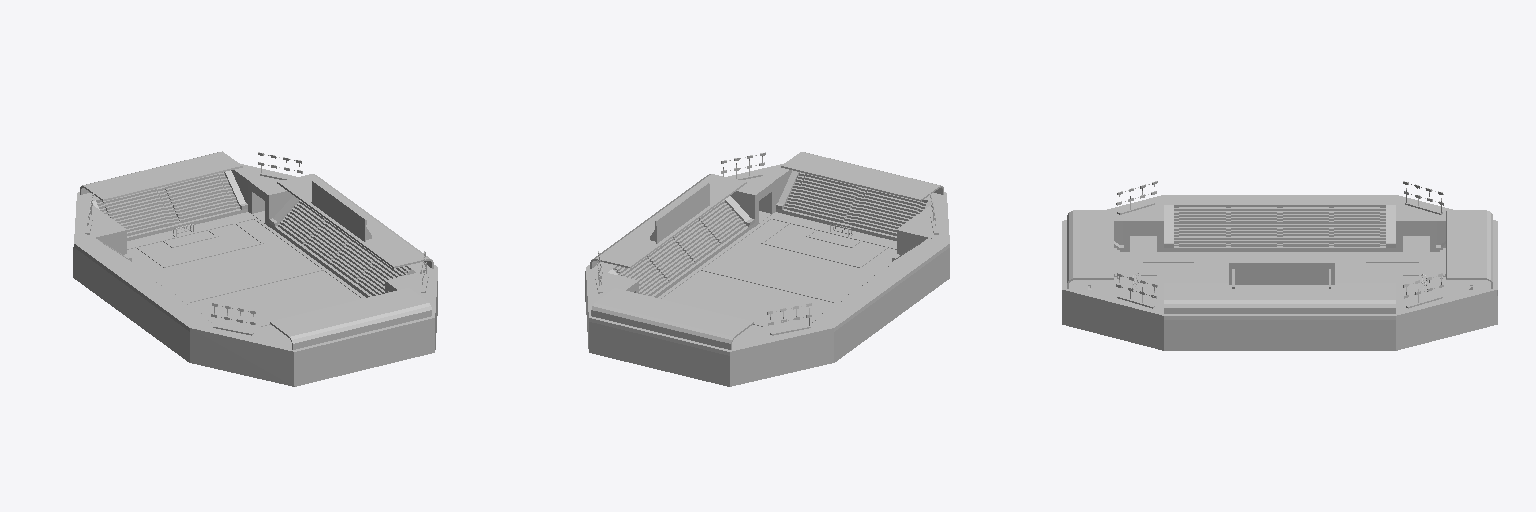
File: Stadium.obj
3 views of the same model, side by side, from view 1: azimuth 30°, elevation 25°; view 2: azimuth 150°, elevation 25°; view 3: azimuth 270°, elevation 25° (orthographic).
Parts seen in each view (by area): view 1: Box001, Box010, Box008, Box015, Box011, Box012, Box014, Line008, Line007, Box006, Box009, Box016 (+9 smaller); view 2: Box001, Box010, Box003, Box014, Box009, Box012, Box015, Line021, Line022, Box007, Box011, Box016 (+9 smaller); view 3: Box005, Box001, Box012, Box010, Box006, Box007, Box015, Box014, Box016, Box011, Box009, Line023 (+7 smaller).
Boxes of the visible parts, <box> form: Box001: <box>127,212,365,342</box>; Box010: <box>73,238,211,362</box>; Box008: <box>283,316,434,386</box>; Box015: <box>270,288,431,349</box>; Box011: <box>190,315,294,386</box>; Box012: <box>277,174,433,268</box>; Box014: <box>80,151,242,200</box>; Line008: <box>165,174,232,222</box>; Line007: <box>102,189,171,235</box>; Box006: <box>231,164,295,226</box>; Box009: <box>74,193,126,254</box>; Box016: <box>311,181,366,241</box>; Box001: <box>658,212,896,342</box>; Box010: <box>812,238,949,362</box>; Box003: <box>589,316,740,386</box>; Box014: <box>591,288,753,349</box>; Box009: <box>730,315,833,386</box>; Box012: <box>590,174,746,268</box>; Box015: <box>781,152,943,201</box>; Line021: <box>790,174,858,222</box>; Line022: <box>852,189,921,235</box>; Box007: <box>728,163,791,226</box>; Box011: <box>897,193,949,254</box>; Box016: <box>655,182,709,243</box>; Box005: <box>1164,314,1395,350</box>; Box001: <box>1124,252,1436,289</box>; Box012: <box>1164,283,1395,313</box>; Box010: <box>1164,195,1395,251</box>; Box006: <box>1396,290,1497,350</box>; Box007: <box>1062,290,1163,350</box>; Box015: <box>1067,210,1113,288</box>; Box014: <box>1446,210,1492,288</box>; Box016: <box>1229,263,1334,284</box>; Box011: <box>1064,195,1163,251</box>; Box009: <box>1396,195,1495,251</box>; Line023: <box>1179,207,1225,246</box>.
Size of the model in its own units: 268 by 70.44 by 406.